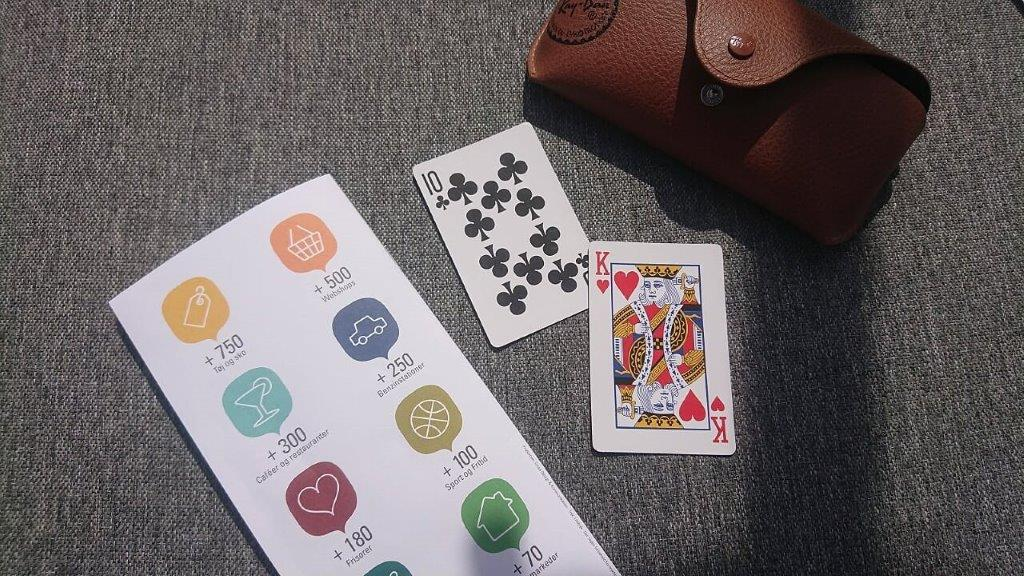10C: (416, 167, 453, 216)
KH: (590, 247, 614, 296)
